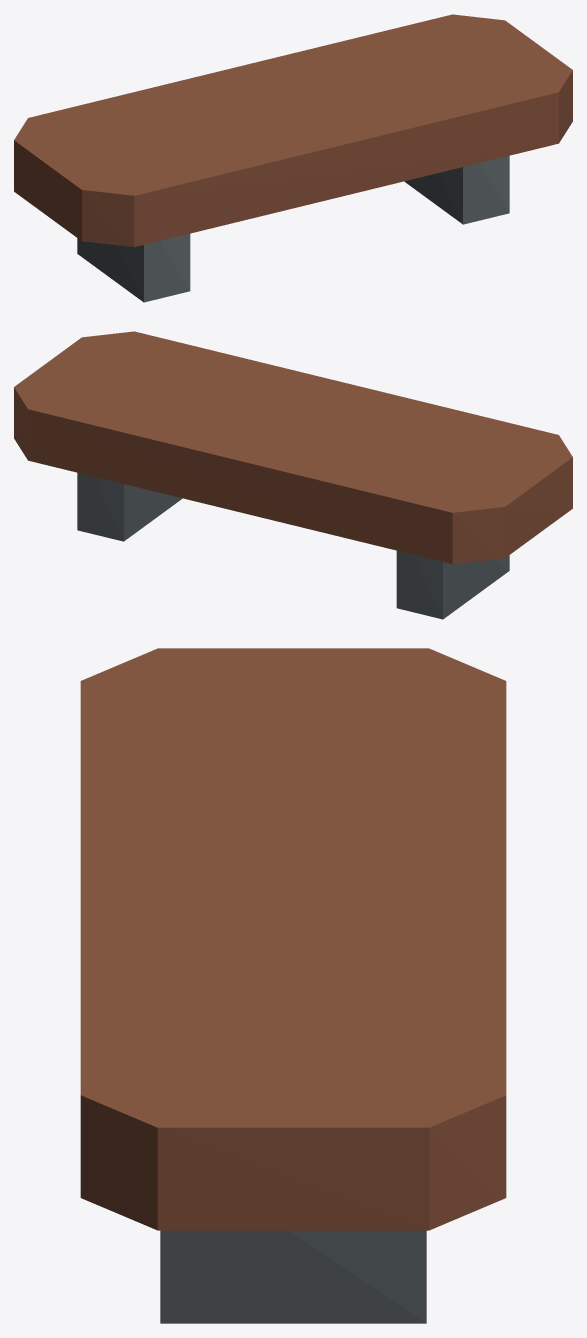
File: kk_city_bench.glb
3 views of the same model, one above another, from view 1: azimuth 30°, elevation 25°; view 2: azimuth 150°, elevation 25°; view 3: azimuth 270°, elevation 25° (orthographic). The views are drawn at different scales.
Parts seen in each view (by area): view 1: kk_city_bench; view 2: kk_city_bench; view 3: kk_city_bench.
Part boxes in pixels (x1,y1,x2,y2): kk_city_bench: (14, 14, 572, 302); kk_city_bench: (14, 331, 572, 619); kk_city_bench: (80, 648, 506, 1323).
Size of the model in its own units: 0.4 by 0.1 by 0.15.
